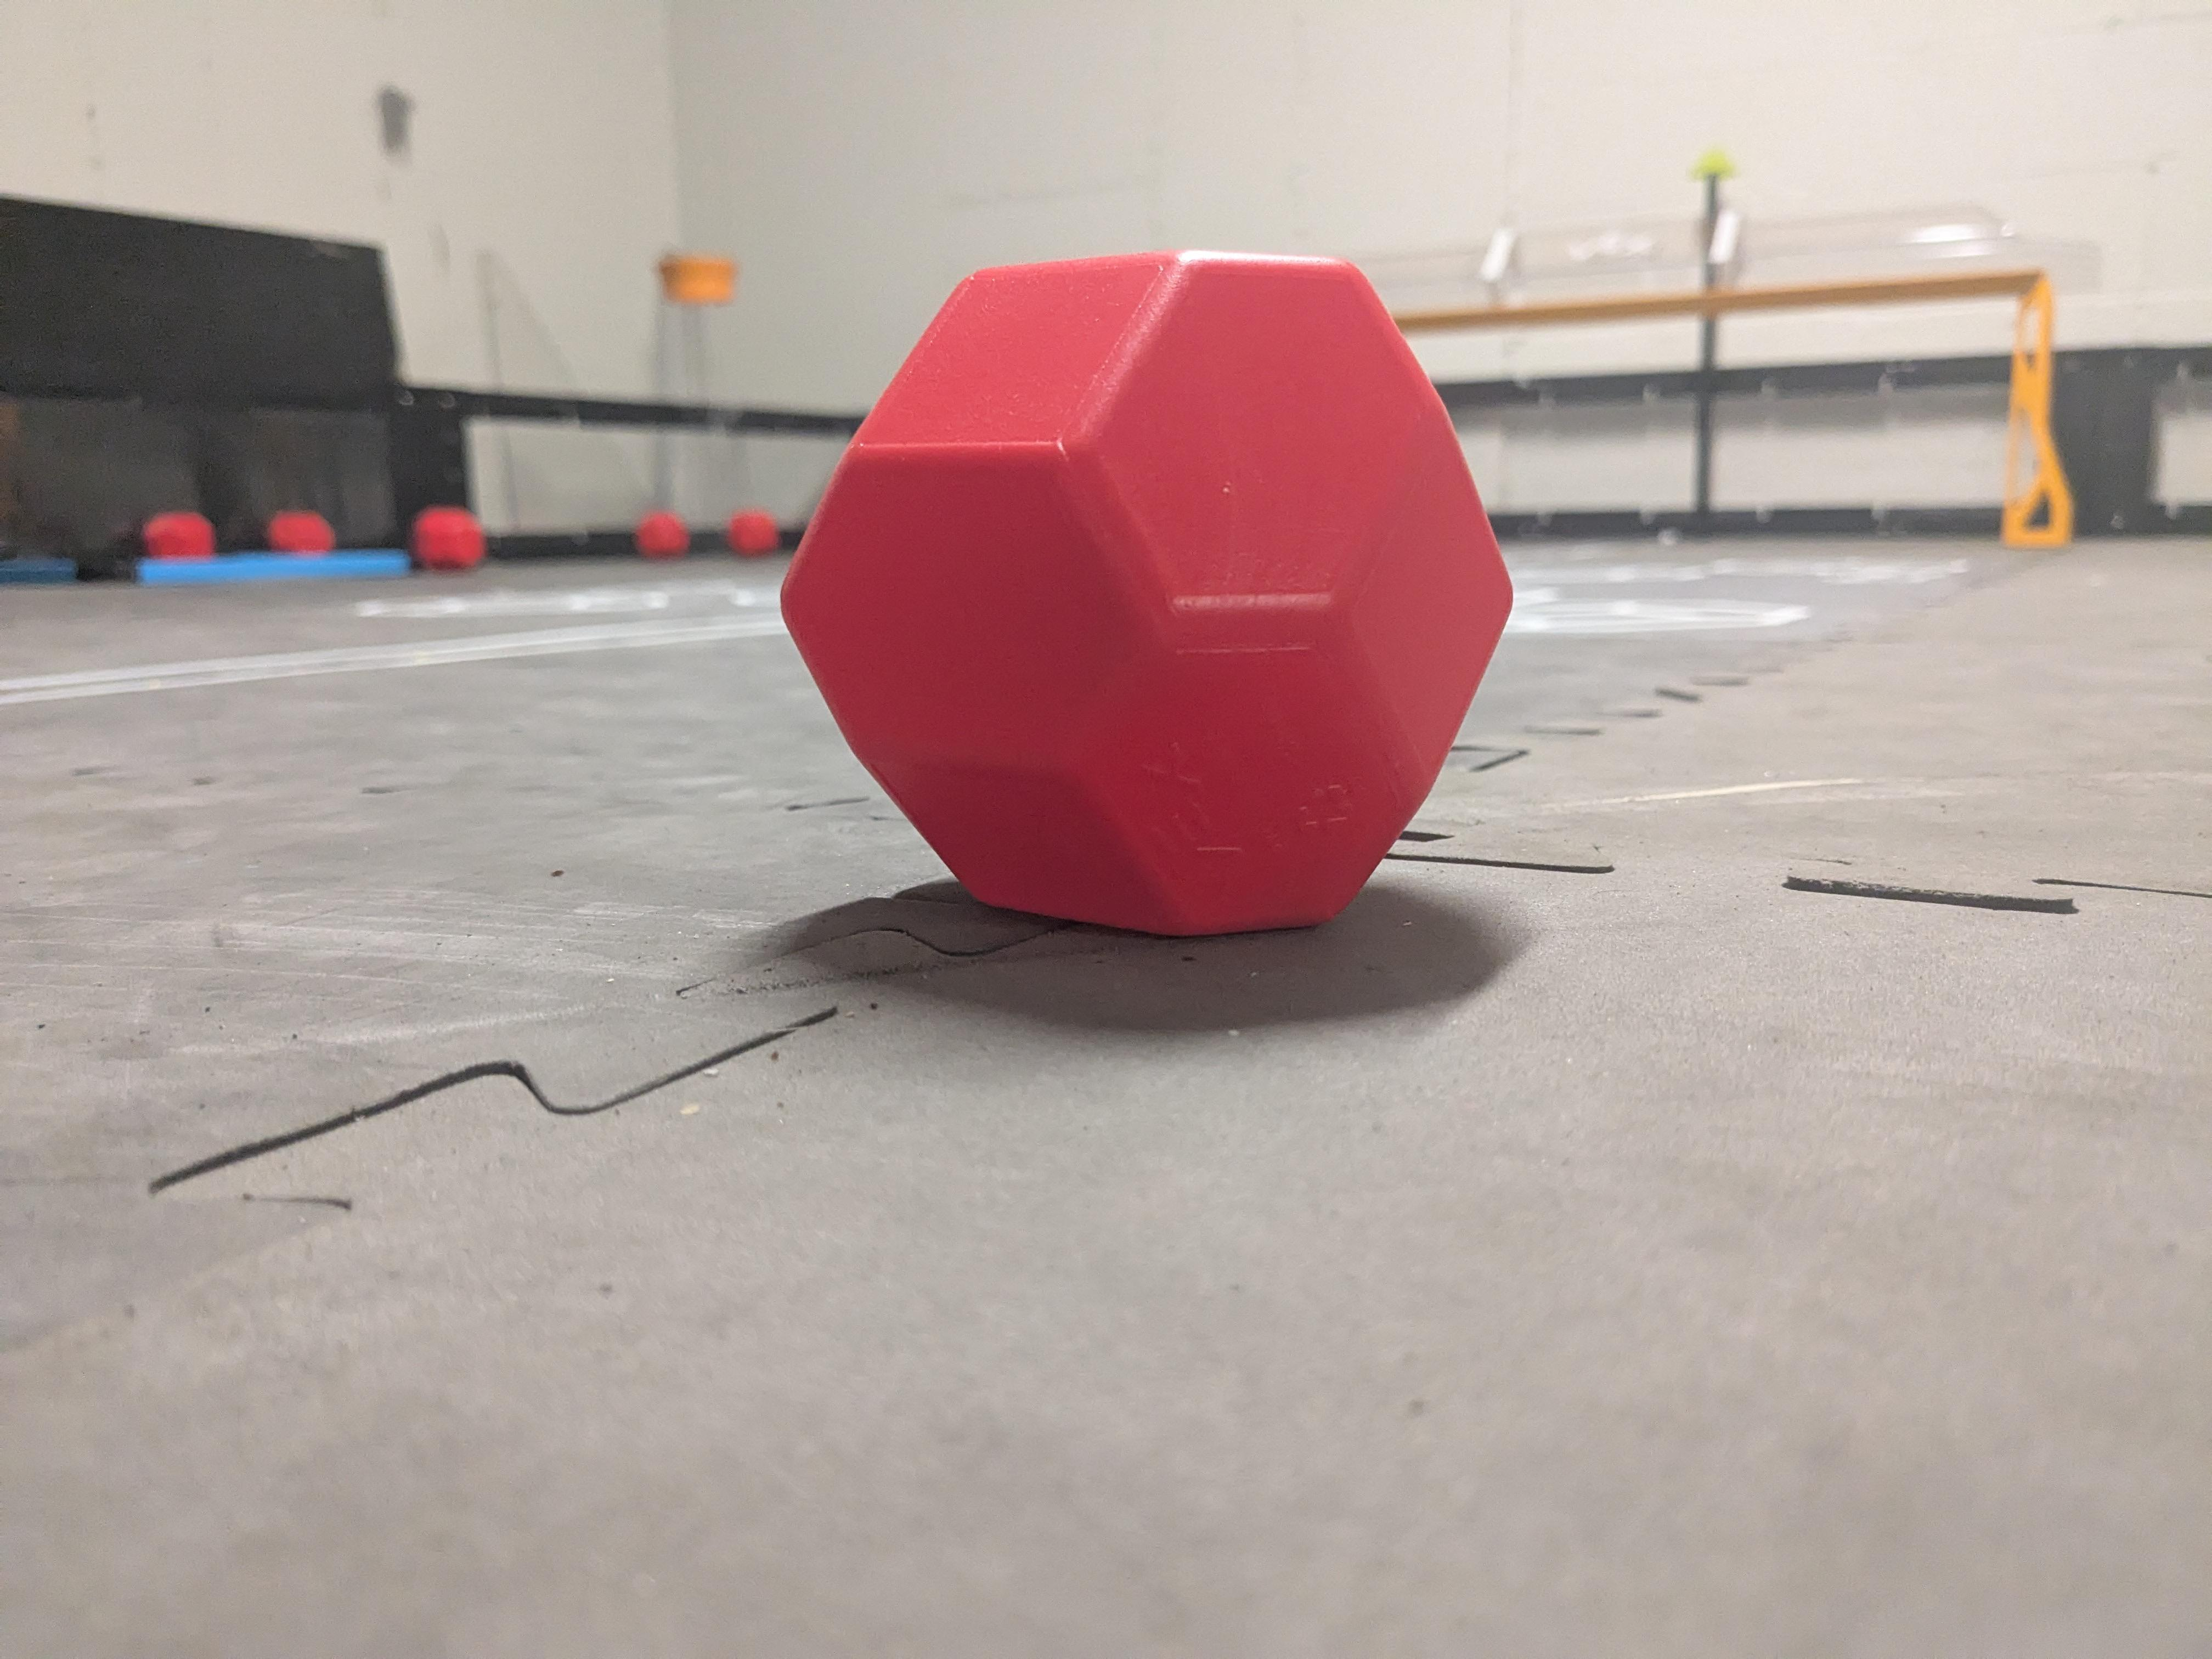Vex-Pieces-RED: (784, 244, 1510, 938)
